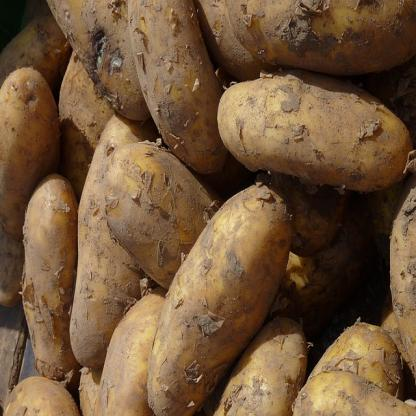--: (139, 183, 297, 416), (212, 66, 416, 188)
